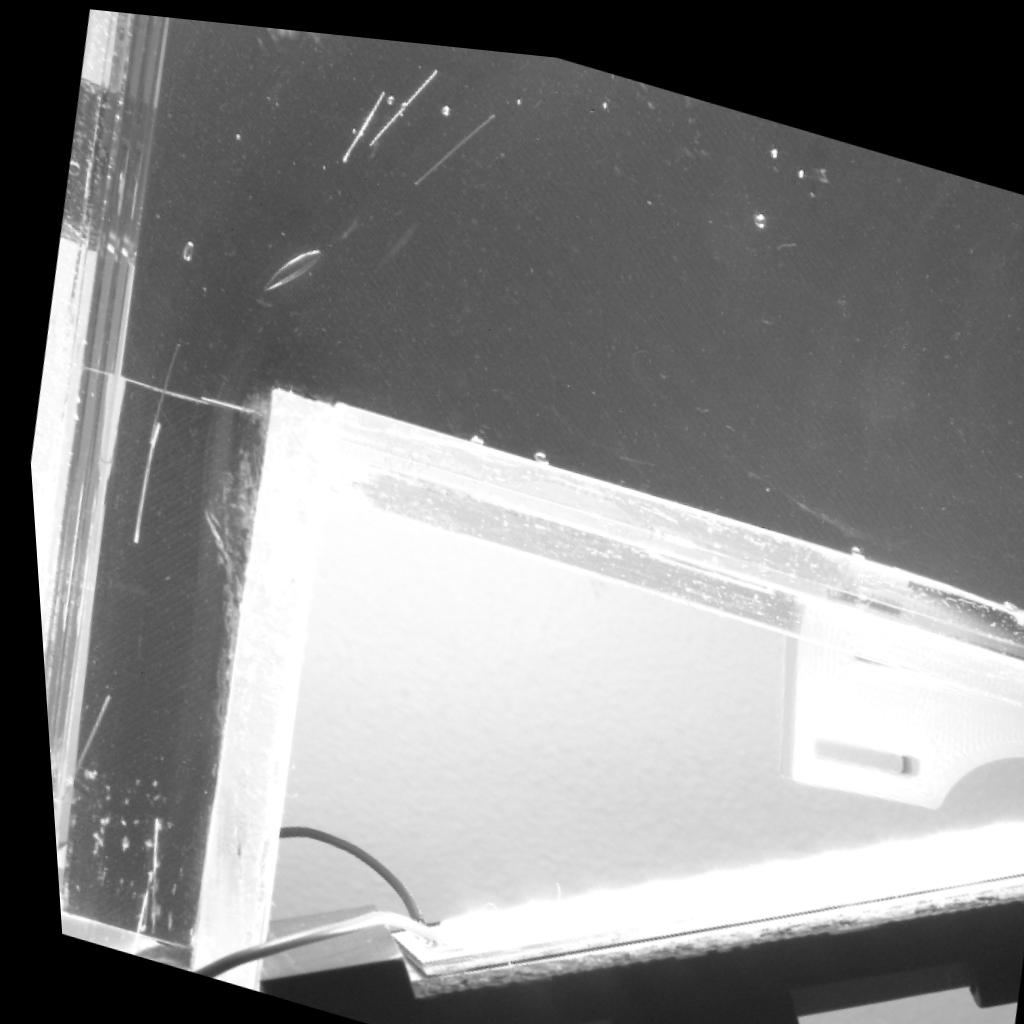Fiber: (411, 101, 495, 174), (367, 59, 443, 137), (45, 695, 99, 798), (122, 414, 157, 544), (142, 335, 182, 442), (339, 81, 387, 153), (114, 864, 137, 950), (137, 816, 151, 933)
